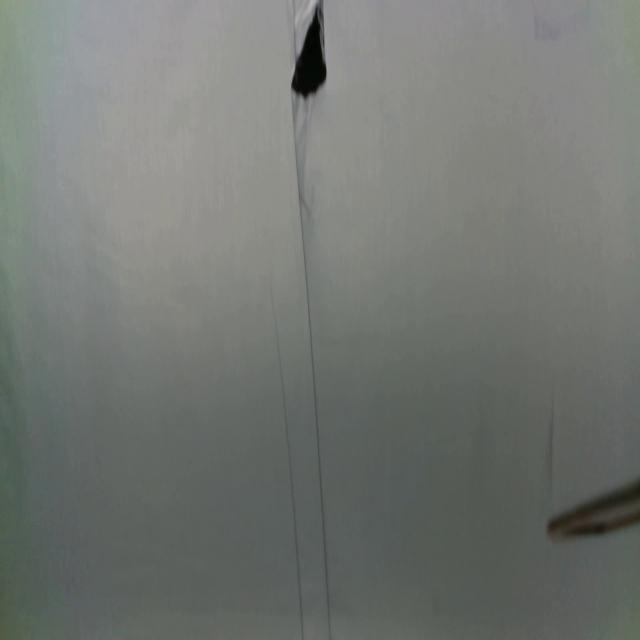crease: (293, 118, 332, 636), (270, 287, 306, 638)
hole: (290, 0, 327, 103)
